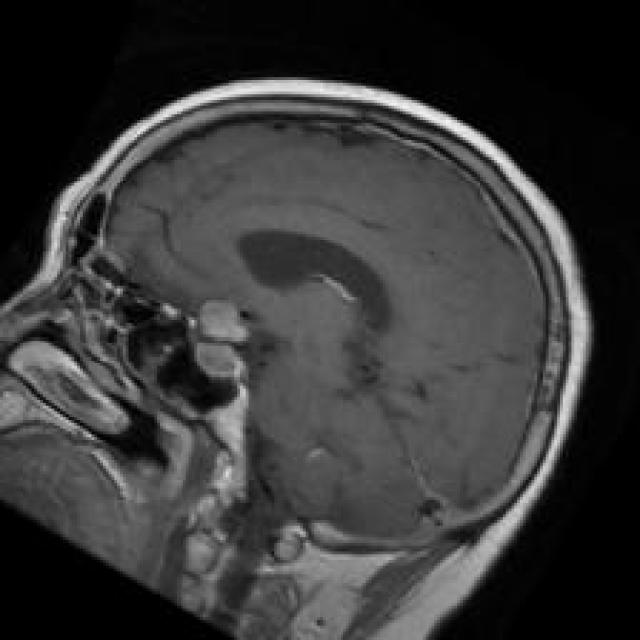pituitary_tumor: (175, 275, 272, 397)
